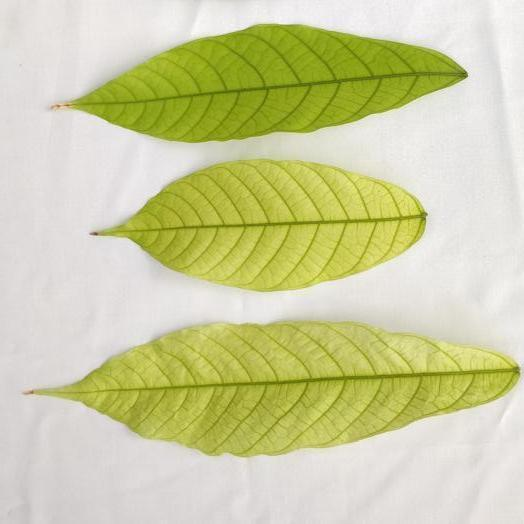Iron: (30, 321, 519, 456), (59, 24, 466, 140), (99, 159, 425, 290)
